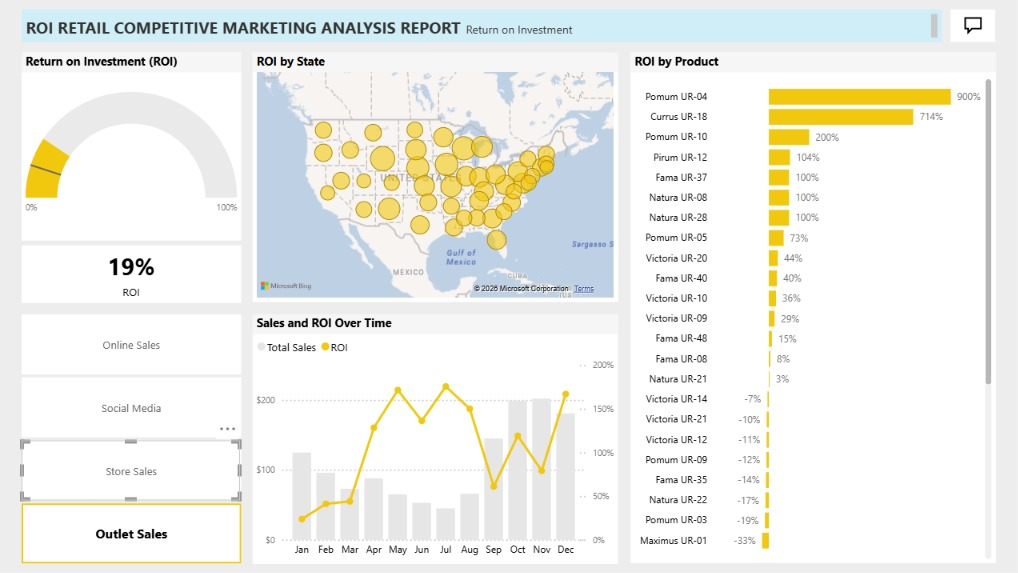

Layout of this report page (visuals, bound fields, positions):
{"tool":"powerbi","page":{"name":"Return on Investment","canvas":[1279,720],"ordinal":2},"visuals":[{"type":"textbox","title":"SALES AND MARKETING","box":[30.2,13.9,1150.1,40.7],"z":0},{"type":"actionButton","box":[1191.9,13.9,55.8,40.7],"z":23000},{"type":"lineStackedColumnComboChart","title":"Sales and ROI Over Time","fields":{"Category":["Date.Months"],"Y":["SalesFact.Total Category Volume"],"Y2":["SalesFact.Total Units YTD Var %"]},"box":[319.1,394.6,456.4,311.7],"z":35000},{"type":"gauge","fields":{"Y":["SalesFact.Total Units YTD Var %"]},"box":[29.7,68,274.6,235],"z":36000},{"type":"map","title":"ROI by State","fields":{"Category":["Geo.State"],"Size":["SalesFact.% Units Market Share"]},"box":[319.1,68,456.4,311.7],"z":37000},{"type":"barChart","fields":{"Category":["Product.Manufacturer","Product.Product"],"Y":["SalesFact.Total Units YTD Var %"]},"box":[791.6,68,456.4,638.3],"z":38000},{"type":"card","fields":{"Values":["SalesFact.Total Units YTD Var %"]},"box":[30.2,308.4,274.4,71.8],"z":39000},{"type":"actionButton","title":"B Outlet Sales ON","box":[29.7,631.3,274.6,75],"z":63000},{"type":"actionButton","title":"B Store Sales OFF","box":[29.7,552.4,274.6,75],"z":63500},{"type":"actionButton","title":"B Social Media OFF","box":[29.7,473.5,274.6,75],"z":64500},{"type":"actionButton","title":"B Online Sales OFF","box":[29.7,394.6,274.6,75],"z":65500}]}

Visuals, with their boxes in screenshot pixels (x1, y1, x2, y2), scaled from the page's 1279x720 canvas onto the 1018x573 screenshot:
"SALES AND MARKETING" textbox: rect(24, 11, 939, 43)
actionButton: rect(949, 11, 993, 43)
"Sales and ROI Over Time" lineStackedColumnComboChart: rect(254, 314, 617, 562)
gauge - SalesFact.Total Units YTD Var %: rect(24, 54, 242, 241)
"ROI by State" map: rect(254, 54, 617, 302)
barChart - Product.Manufacturer x Product.Product: rect(630, 54, 993, 562)
card - SalesFact.Total Units YTD Var %: rect(24, 245, 242, 303)
"B Outlet Sales ON" actionButton: rect(24, 502, 242, 562)
"B Store Sales OFF" actionButton: rect(24, 440, 242, 499)
"B Social Media OFF" actionButton: rect(24, 377, 242, 437)
"B Online Sales OFF" actionButton: rect(24, 314, 242, 374)
